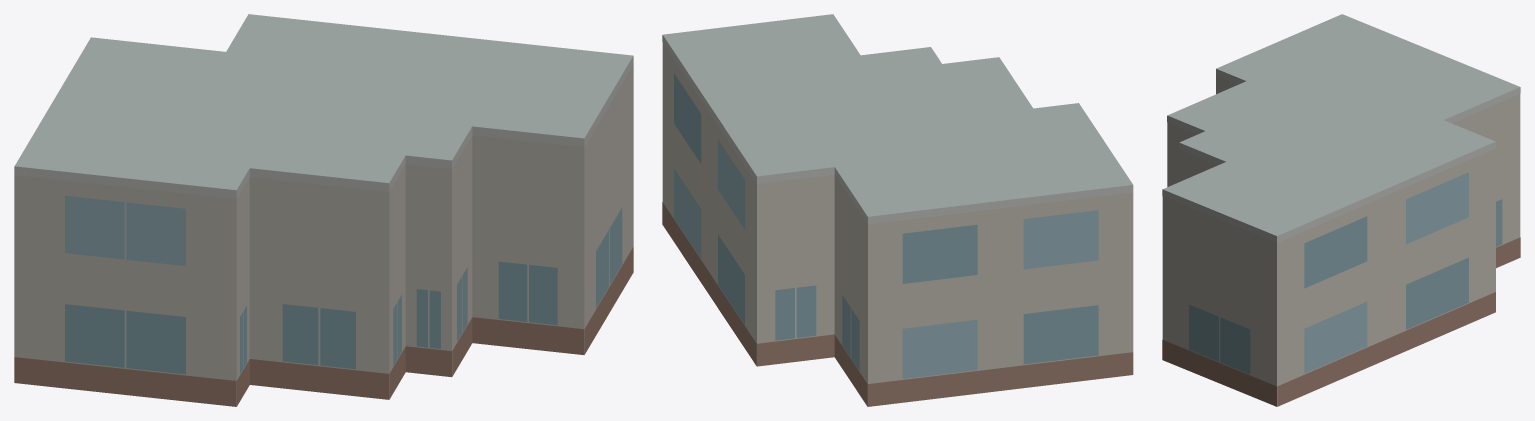
Rendered from survey-upis-32803360.glb.
3 views of the same model, side by side, from view 1: azimuth 30°, elevation 25°; view 2: azimuth 150°, elevation 25°; view 3: azimuth 270°, elevation 25° (orthographic). The views are drawn at different scales.
Parts seen in each view (by area): view 1: survey-upis-32803360.tmp; view 2: survey-upis-32803360.tmp; view 3: survey-upis-32803360.tmp.
Boxes of the visible parts, x1,y1,x2,y2 form: survey-upis-32803360.tmp: (14, 14, 633, 406); survey-upis-32803360.tmp: (662, 14, 1133, 406); survey-upis-32803360.tmp: (1162, 14, 1520, 406).
Size of the model in its own units: 17.03 by 6.1 by 11.6.
